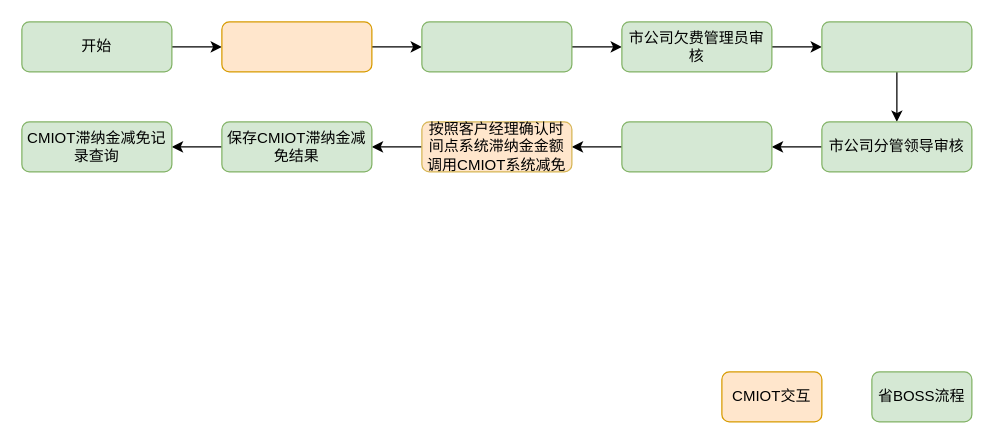
The diagram is 994 pixels wide and 444 high, and some of its shapes have lost their labels. The box of each missing label's shape, as (x1, y1, x2, y2) in pixels:
客户经理最终确认滞纳金减免信息: (621, 121, 772, 172)
客户经理选择待减免账期滞纳金提交申请: (421, 21, 572, 72)
市公司三级分管审核: (821, 21, 972, 72)
调用CMIOT系统查询滞纳金信息: (221, 21, 372, 72)
